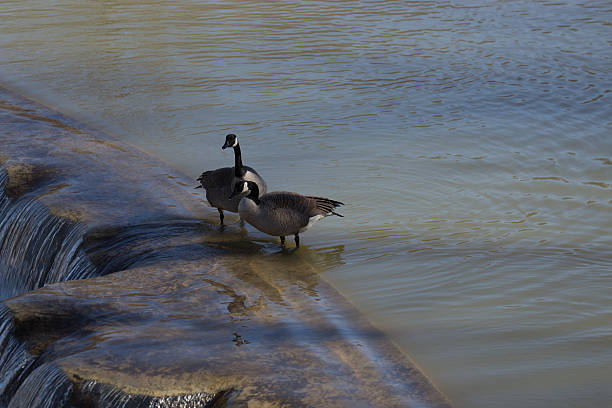goose: (230, 180, 349, 257), (198, 131, 269, 236)
